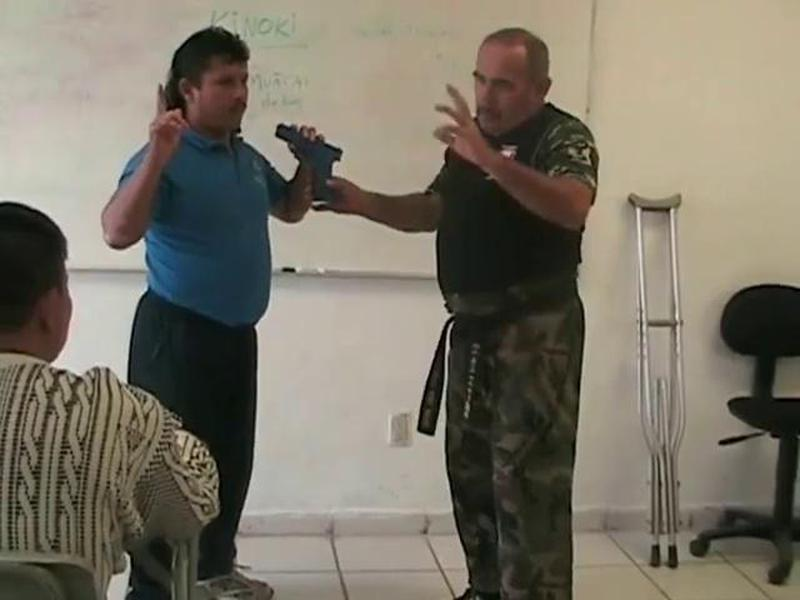Pistola: (265, 122, 371, 231)
